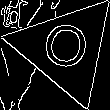O_S: (39, 19, 93, 79)
